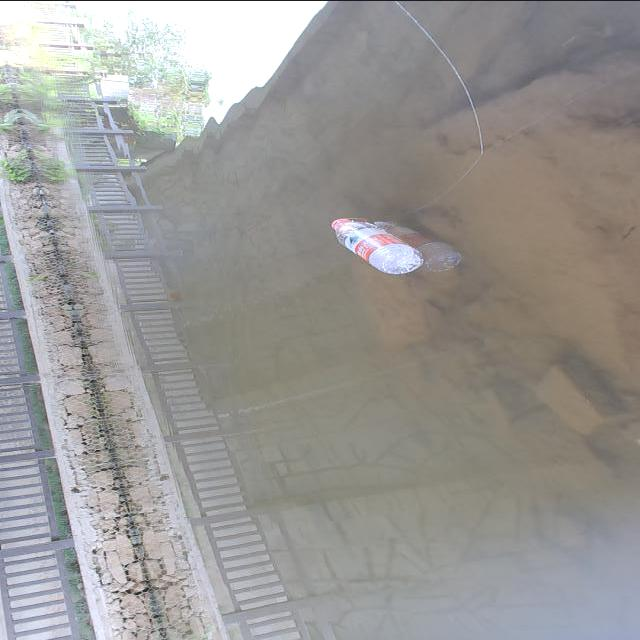bottle: (304, 202, 441, 292)
